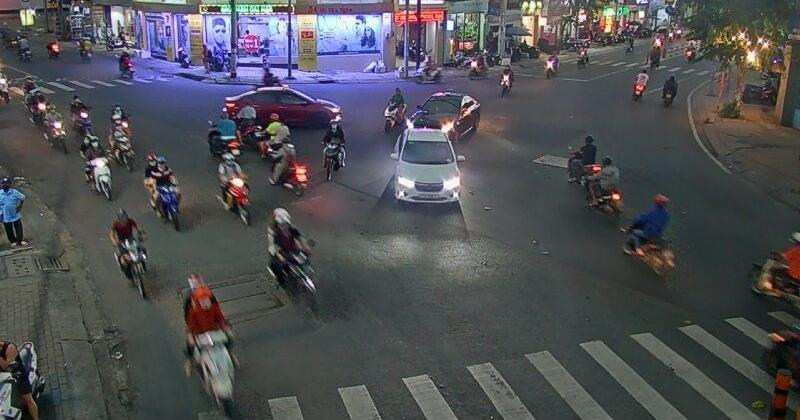xe hoi: (390, 128, 467, 203), (223, 87, 340, 125), (410, 91, 480, 136)
xe may: (109, 208, 146, 300), (144, 153, 181, 231), (216, 151, 251, 226), (267, 135, 306, 198), (585, 157, 623, 217), (80, 134, 112, 200), (319, 119, 346, 180), (207, 112, 242, 157), (109, 115, 135, 171), (42, 105, 67, 152), (383, 87, 407, 131)
